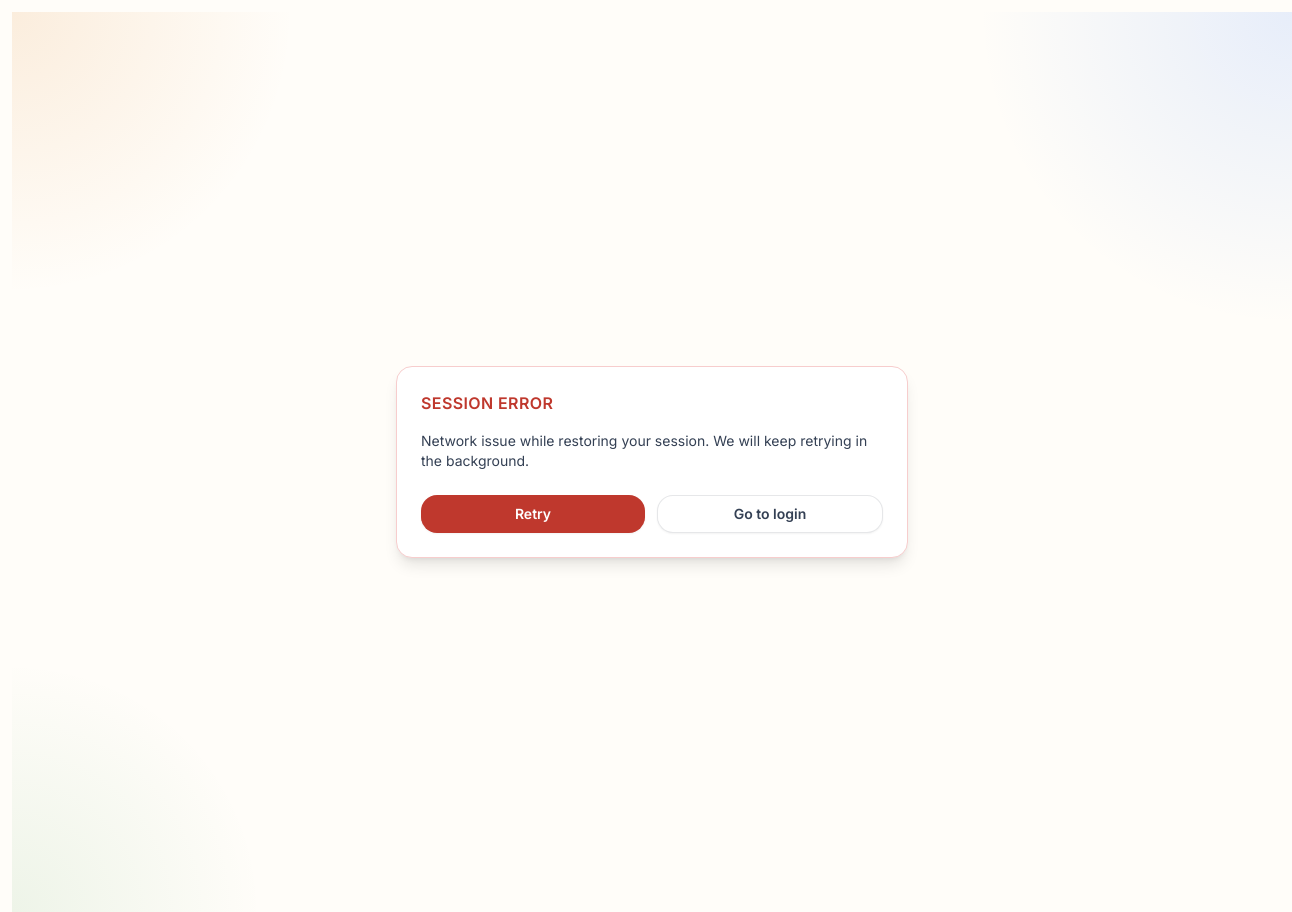
Test case: SecureAuthContext bootstrap › allows retryBootstrap to clear error and restore session
What coordinates should you click on to do the following:
click the button "Retry"
I would click on:
 (533, 514)
Its box is [421,495,645,533].
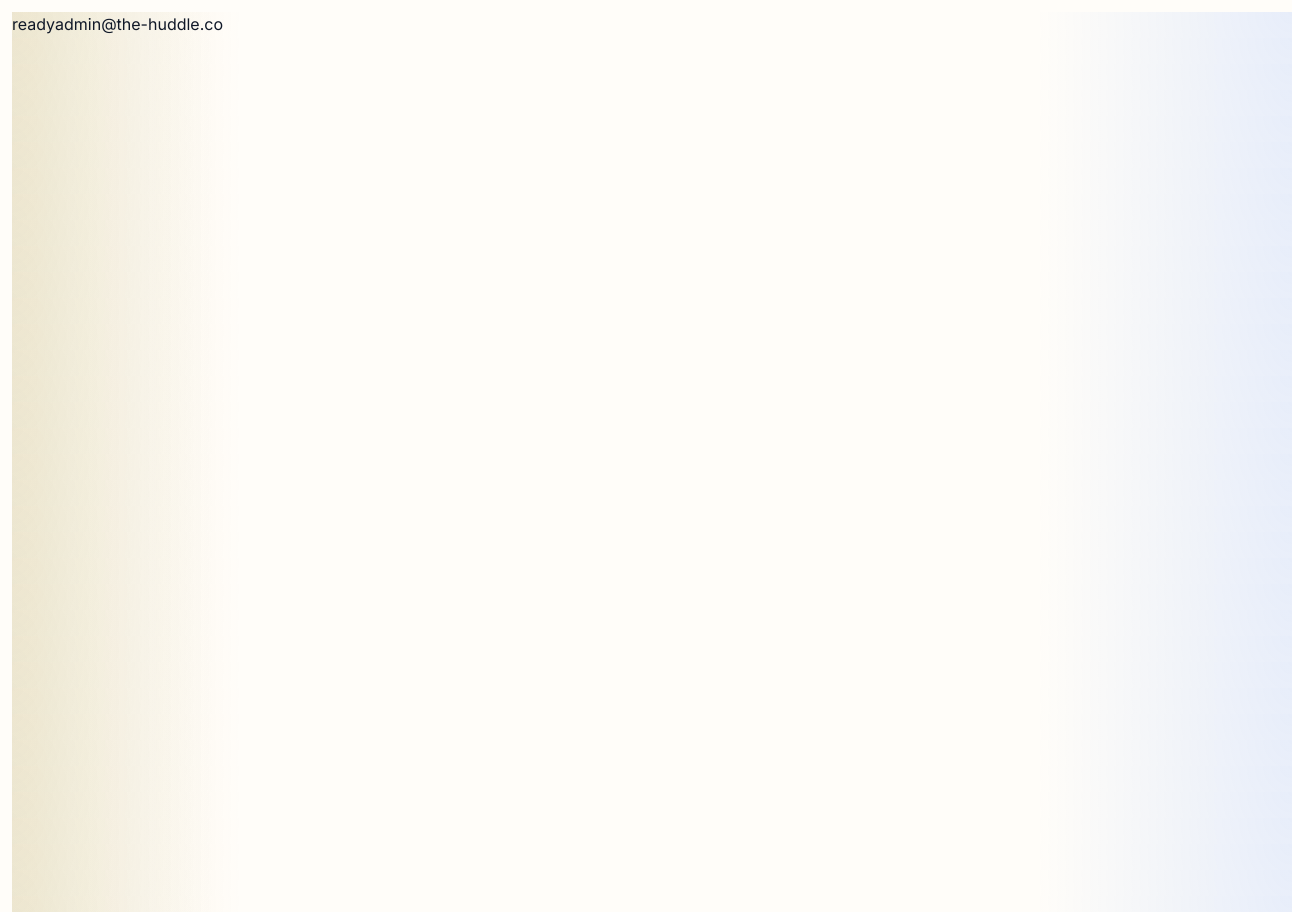
Expected: the text with test id "user-email" reads "admin@the-huddle.co", [55,14,223,34]
